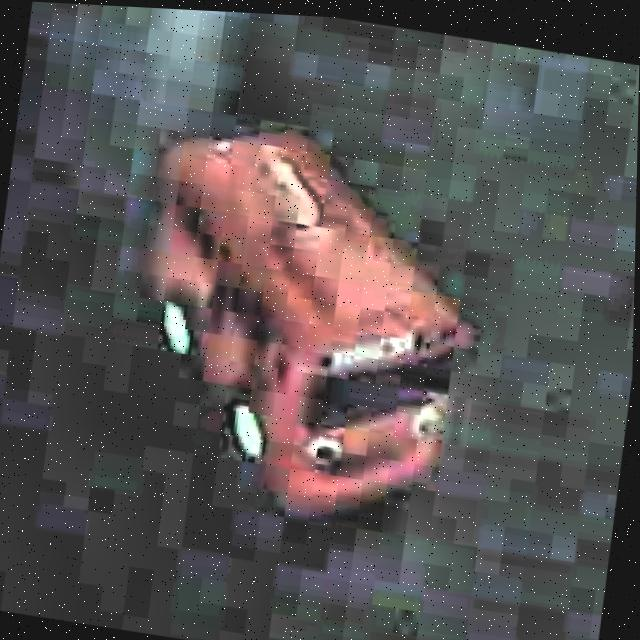bus: (99, 89, 516, 558)
